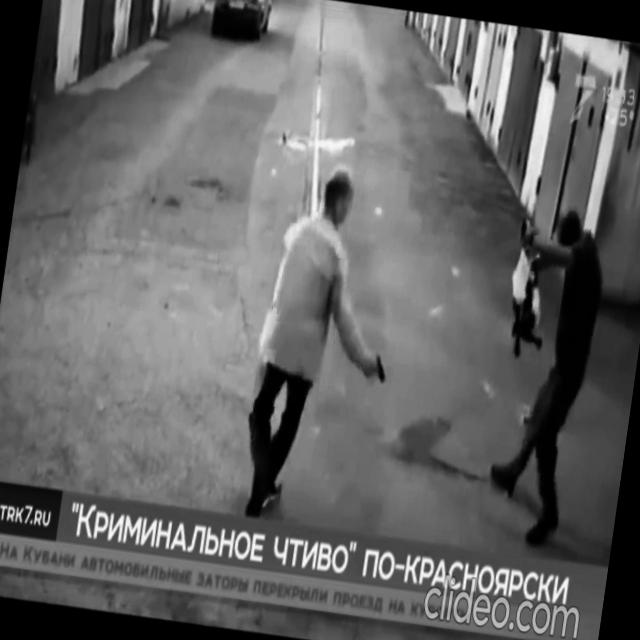gun: (369, 350, 391, 388)
person: (476, 198, 614, 553)
person with a gun: (234, 160, 416, 533)
